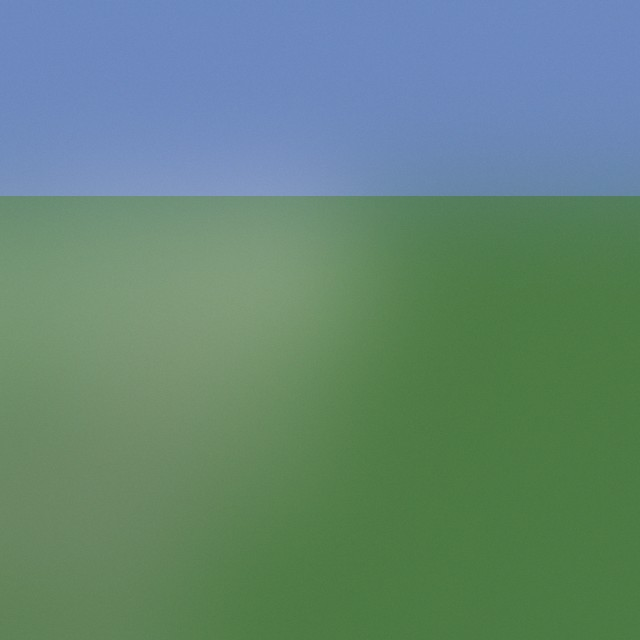smoke: (76, 266, 316, 506)
